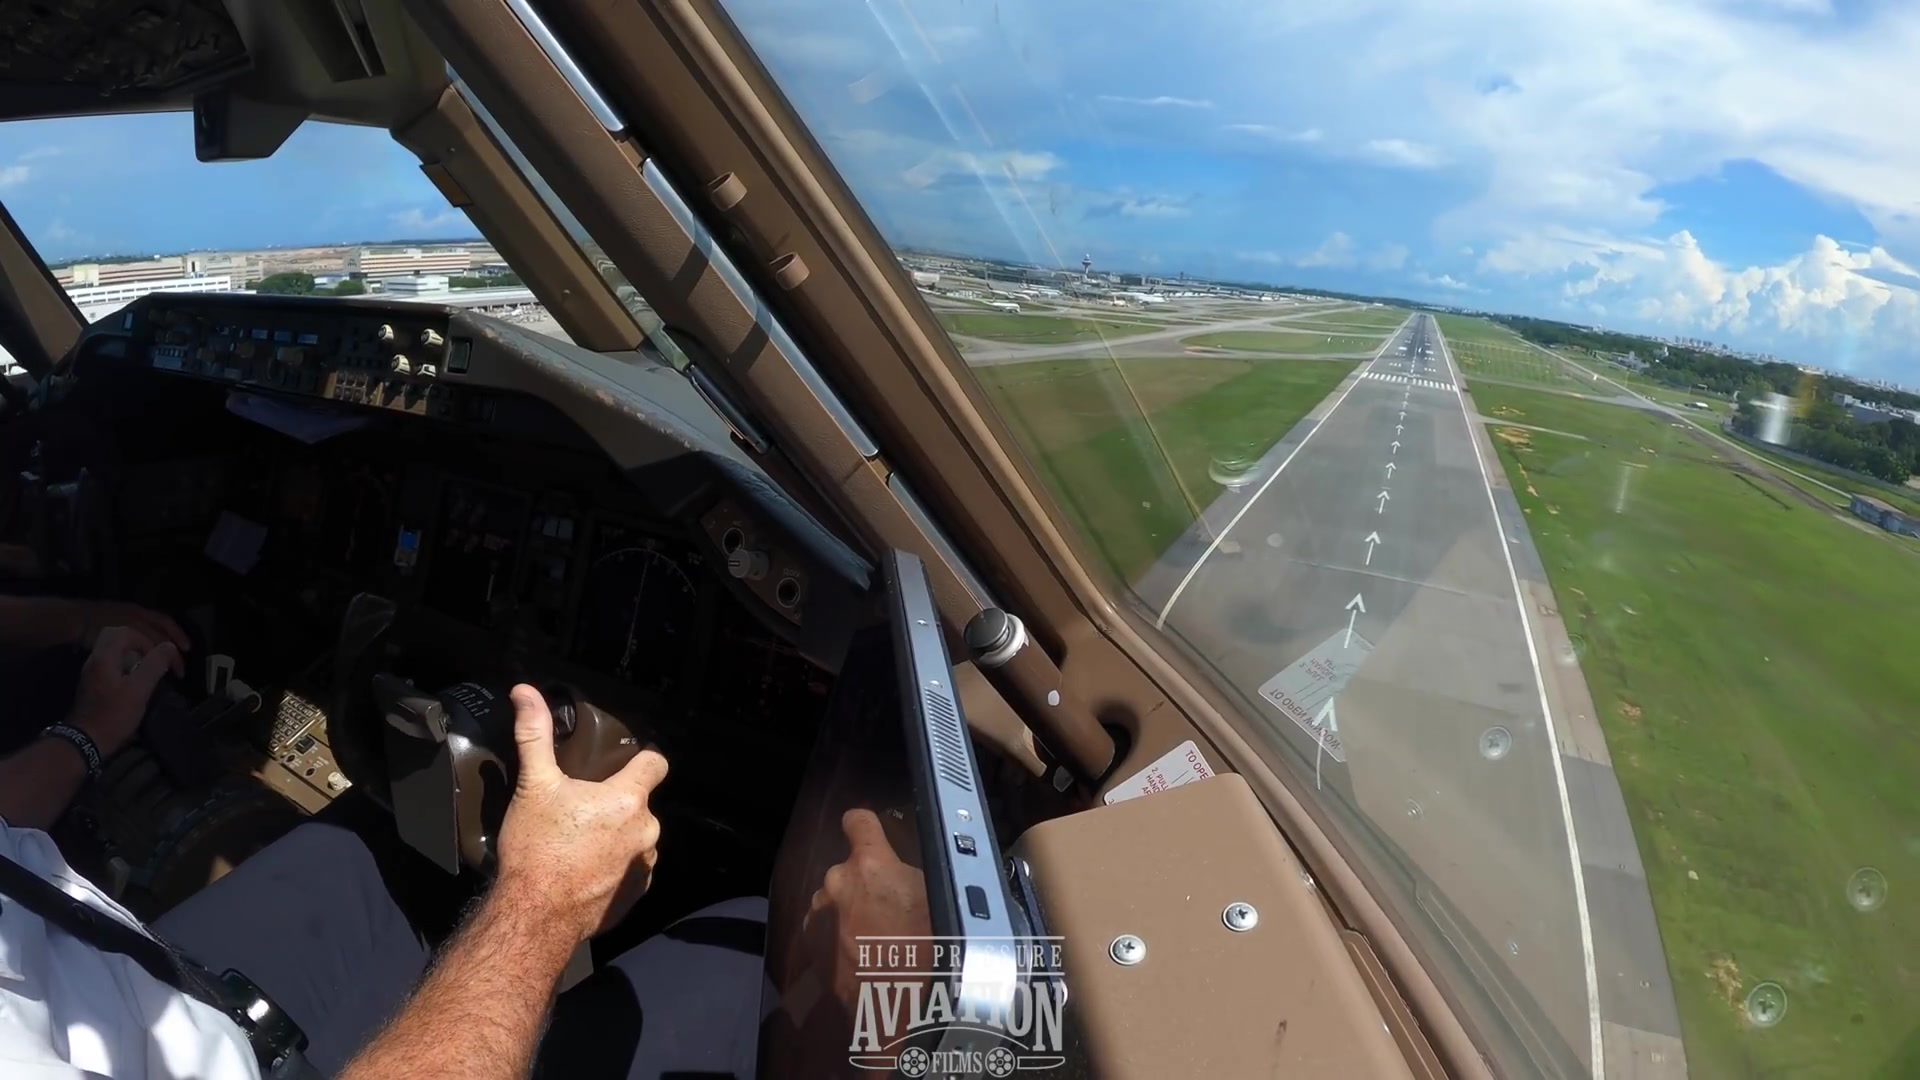entrance: (1354, 365, 1464, 394)
runway: (1147, 313, 1549, 690)
